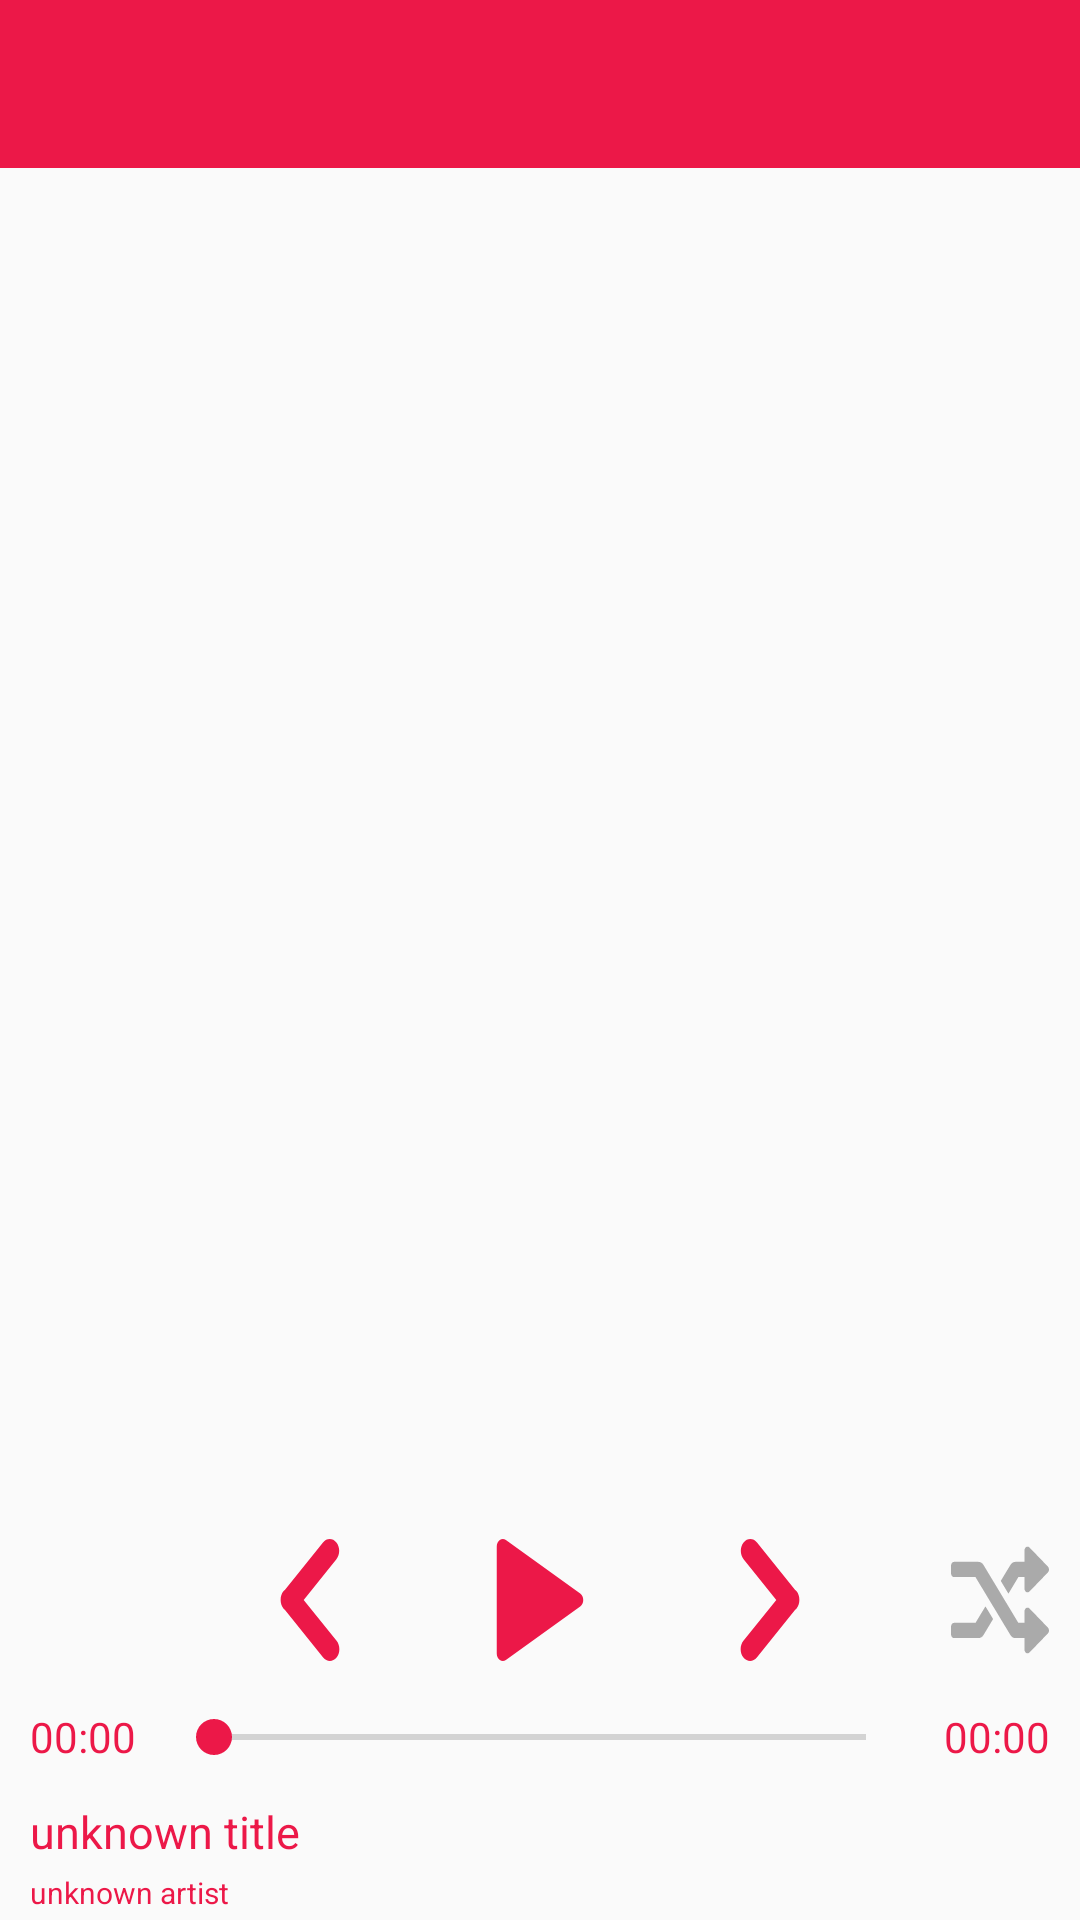

Named icons in this screenshot (1080w x 1920h) and their centers, point (x, y):
next: point (770, 1600)
play: point (540, 1600)
previous: point (310, 1600)
shuffle: point (1000, 1600)
